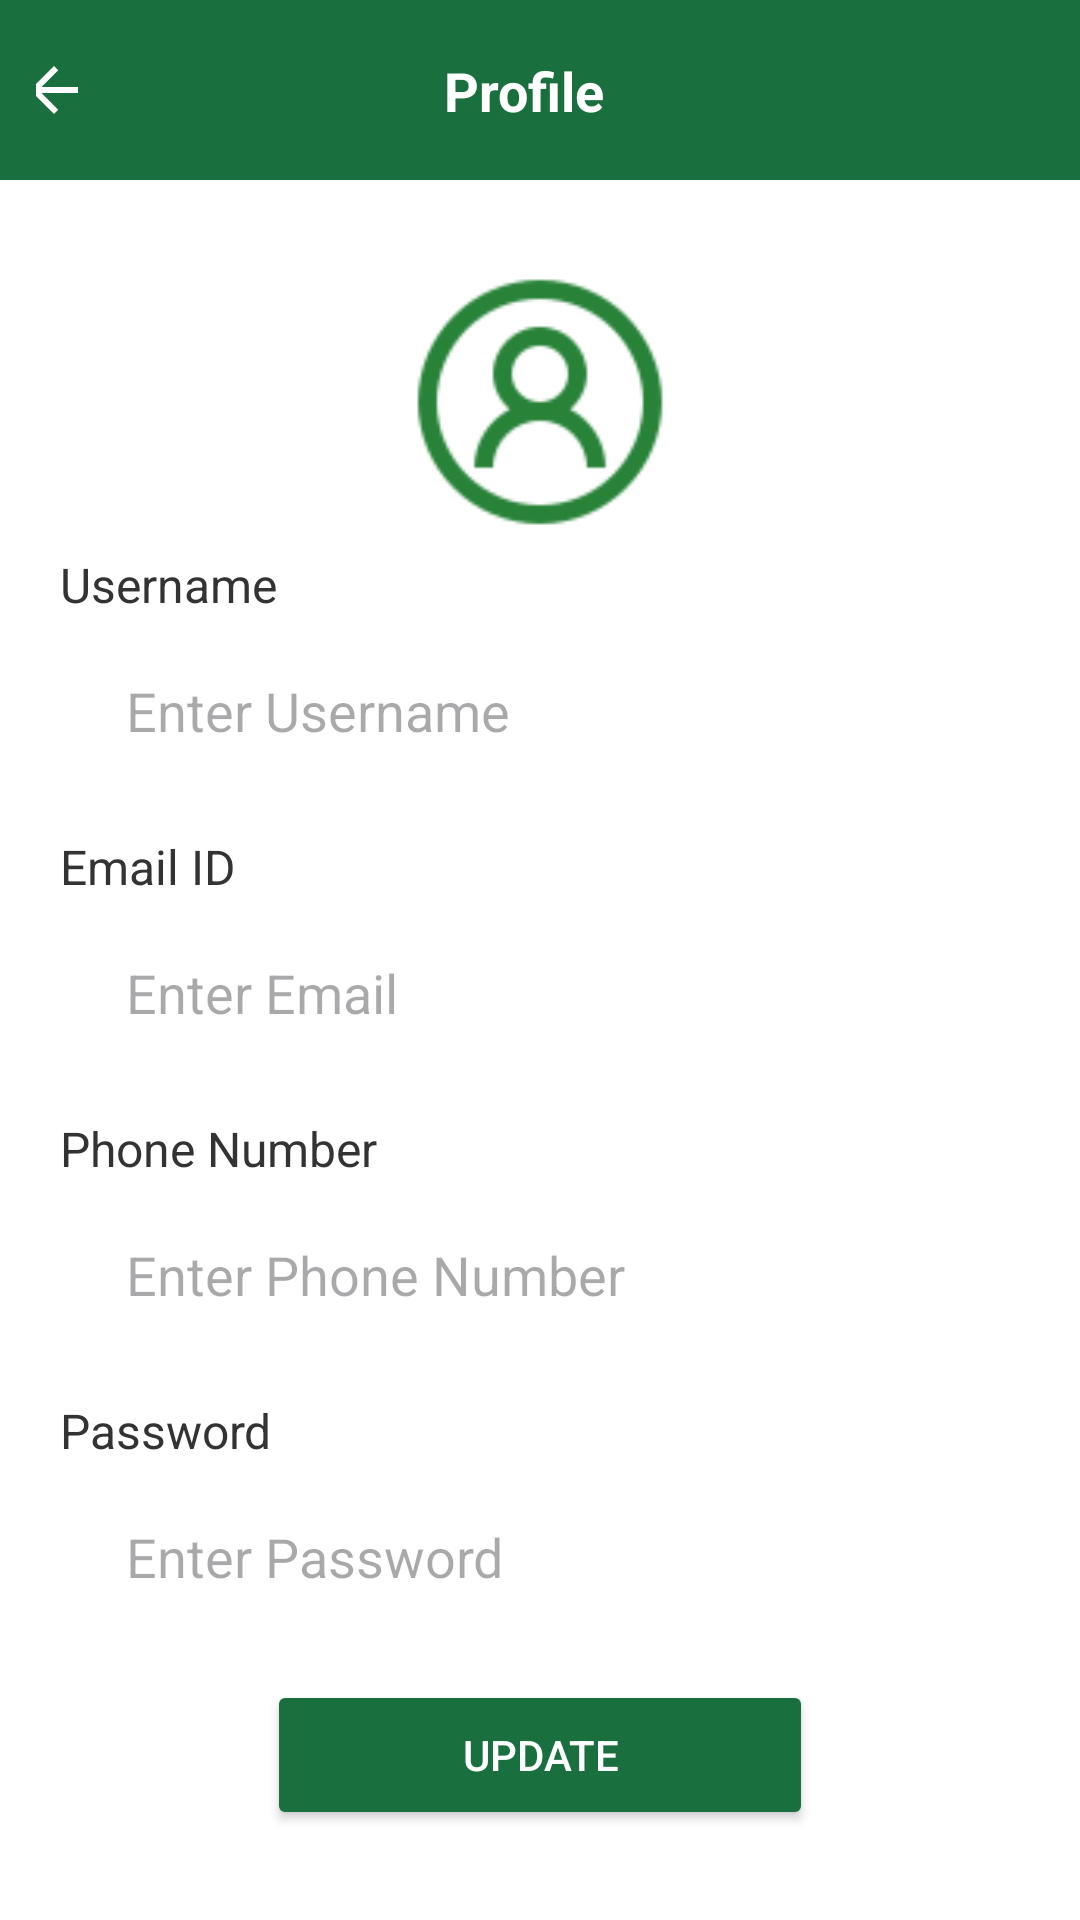

Icon bounding boxes for this 1080px×1920px phone screenshot, format rect(x1, y1, x2, y2):
Back: rect(36, 66, 78, 114)
